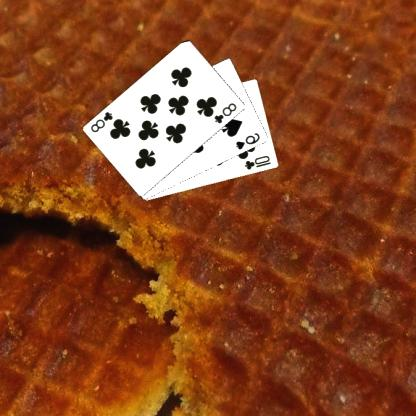10C: (244, 153, 274, 171)
6S: (235, 130, 263, 151)
8C: (214, 100, 240, 125), (90, 109, 116, 134)
